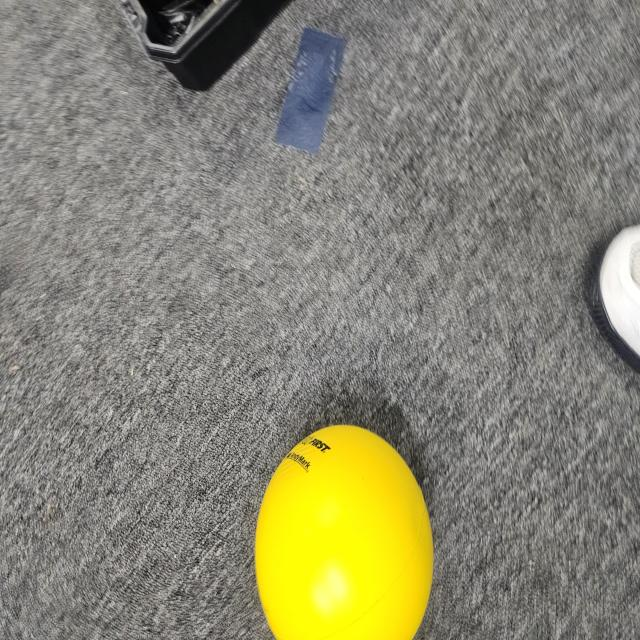Fuel: (248, 416, 439, 640)
